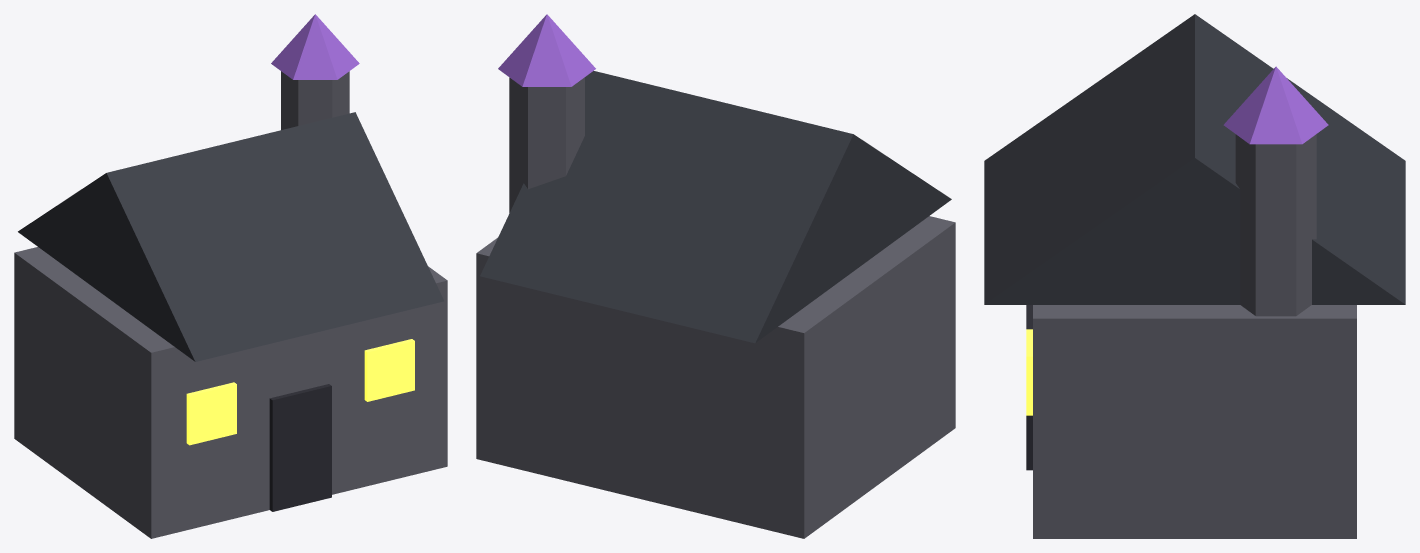
The model's file is haunted_house.glb.
3 renders of one model, left to right at view 1: azimuth 30°, elevation 25°; view 2: azimuth 150°, elevation 25°; view 3: azimuth 270°, elevation 25°, orthographic. The views are drawn at different scales.
Parts seen in each view (by area): view 1: haunted_house; view 2: haunted_house; view 3: haunted_house.
Boxes of the visible parts, x1,y1,x2,y2 form: haunted_house: [14, 14, 447, 538]; haunted_house: [476, 14, 955, 538]; haunted_house: [984, 14, 1405, 538].
Bounding box in the file's own units: 5.06 × 6.2 × 5.2.
